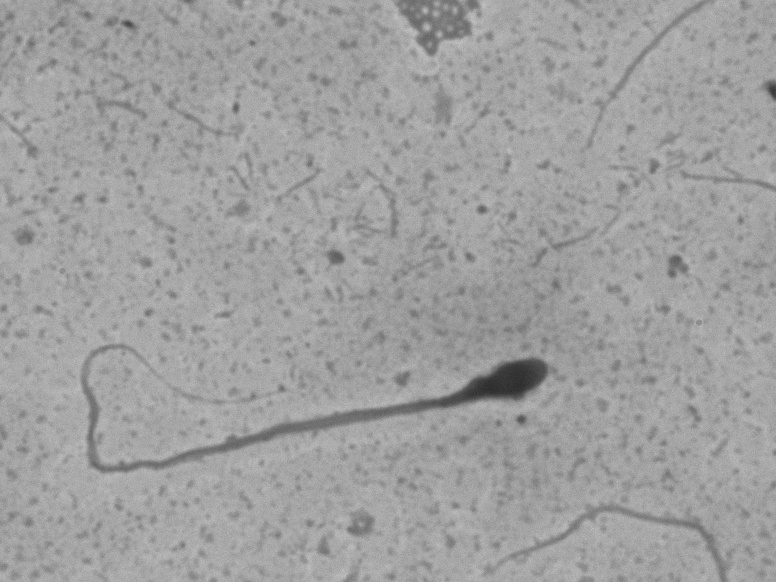Abnormal: (62, 305, 565, 489)
